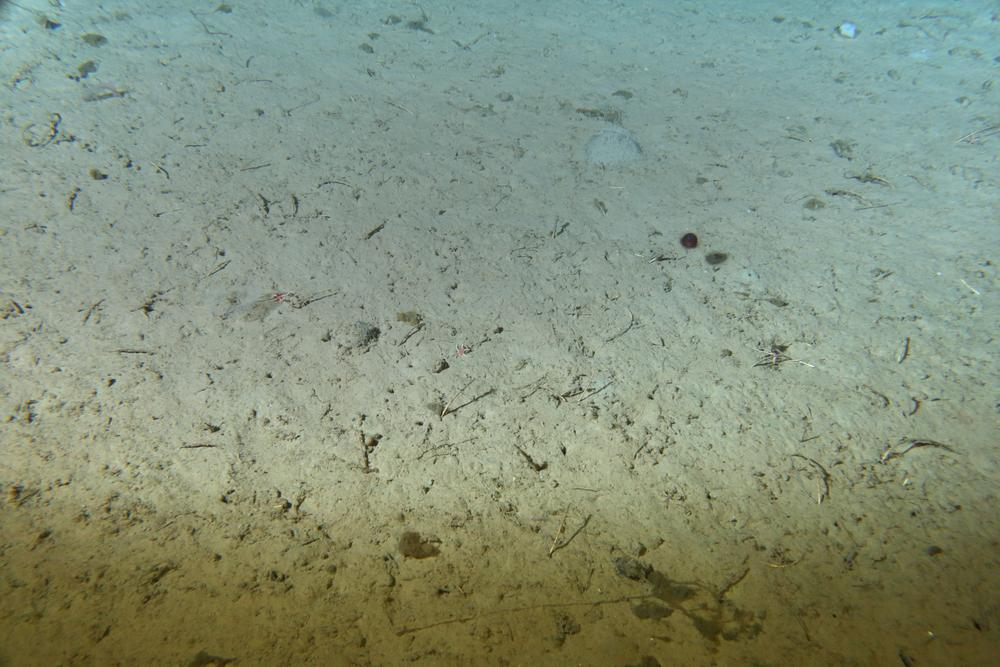Peniagone vitrea: (81, 79, 126, 104)
